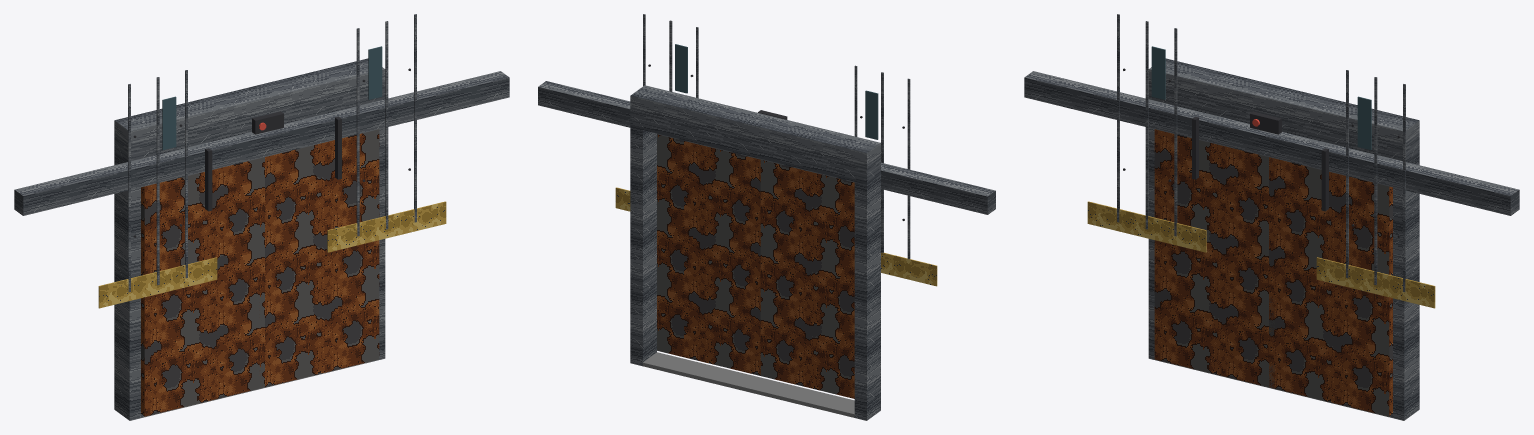
File: FAC_SlidingDoor_Rust.glb
3 renders of one model, left to right at view 1: azimuth 30°, elevation 25°; view 2: azimuth 150°, elevation 25°; view 3: azimuth 330°, elevation 25°, orthographic. The views are drawn at different scales.
Parts seen in each view (by area): view 1: LeafL, LeafR, Hood, Header, PostL, Haz.001, Haz, PostR, Rib.004, Rib.001, Rib.003, Win (+6 smaller); view 2: LeafR, LeafL, Header, PostL, PostR, Hood, Sill, Haz, Win, Rib, Win.001, Rib.001; view 3: LeafR, LeafL, Hood, Header, PostR, Haz, Haz.001, PostL, Rib.001, Rib.002, Rib.004, Win (+6 smaller).
Part boxes in pixels (left/top/right/bottom): LeafL: left=141, top=157, right=264, bottom=416; LeafR: left=259, top=129, right=379, bottom=387; Hood: left=14, top=71, right=509, bottom=215; Header: left=114, top=58, right=385, bottom=162; PostL: left=114, top=118, right=143, bottom=420; Haz.001: left=327, top=201, right=446, bottom=252; Haz: left=98, top=257, right=217, bottom=308; PostR: left=359, top=58, right=385, bottom=361; Rib.004: left=385, top=21, right=388, bottom=229; Rib.001: left=156, top=77, right=159, bottom=285; Rib.003: left=356, top=28, right=359, bottom=236; Win: left=162, top=96, right=176, bottom=149; LeafR: left=657, top=134, right=760, bottom=375; LeafL: left=760, top=160, right=854, bottom=398; Header: left=630, top=85, right=880, bottom=184; PostL: left=854, top=144, right=880, bottom=420; PostR: left=630, top=93, right=656, bottom=366; Hood: left=538, top=81, right=995, bottom=214; Sill: left=643, top=352, right=854, bottom=417; Haz: left=881, top=252, right=937, bottom=286; Win: left=865, top=90, right=878, bottom=139; Rib: left=907, top=78, right=910, bottom=259; Win.001: left=675, top=44, right=687, bottom=93; Rib.001: left=881, top=72, right=883, bottom=252; LeafR: left=1269, top=157, right=1392, bottom=416; LeafL: left=1154, top=129, right=1274, bottom=388; Hood: left=1024, top=71, right=1519, bottom=215; Header: left=1148, top=58, right=1419, bottom=162; PostR: left=1390, top=118, right=1419, bottom=420; Haz: left=1087, top=201, right=1206, bottom=252; Haz.001: left=1316, top=257, right=1435, bottom=308; PostL: left=1148, top=58, right=1174, bottom=361; Rib.001: left=1145, top=21, right=1148, bottom=229; Rib.002: left=1174, top=28, right=1177, bottom=236; Rib.004: left=1374, top=77, right=1377, bottom=285; Win: left=1151, top=46, right=1165, bottom=99.
Size of the model in its own units: 5.1 by 3.52 by 0.6.
Materials: 7 (3 with a texture image).
